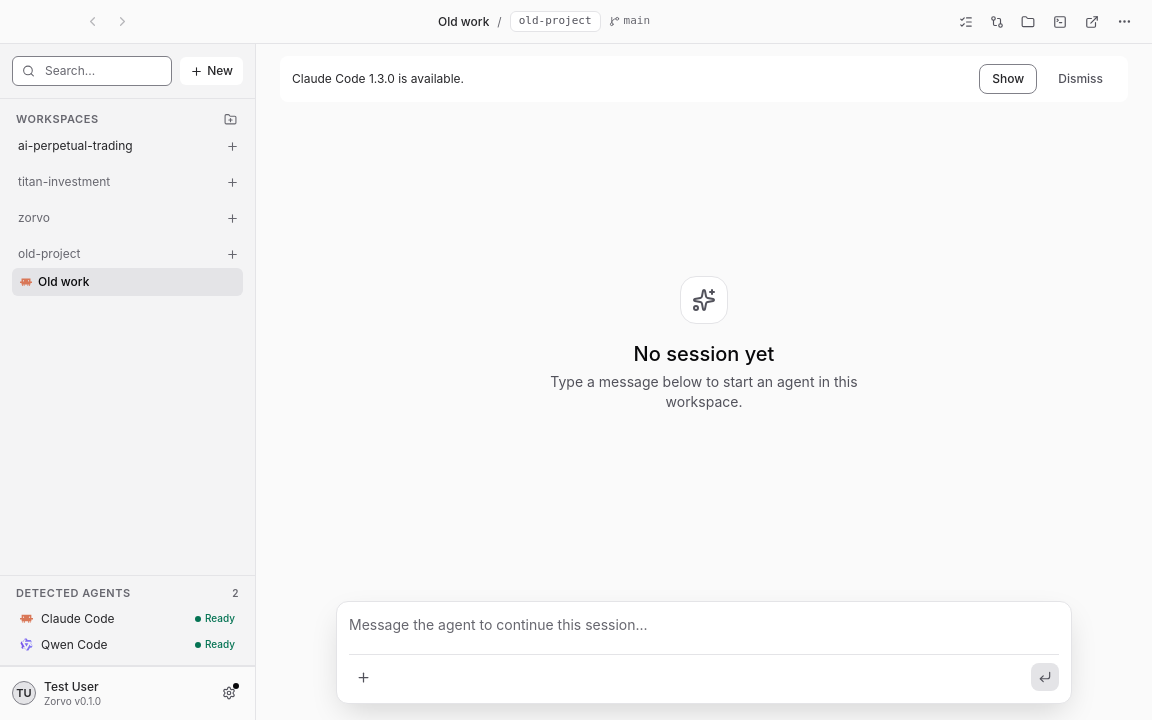
it: Window chrome wiring › keeps Files for a session whose folder has left the recents
Click the button named "Toggle files panel". click: (1028, 22)
box: [1014, 8, 1042, 36]
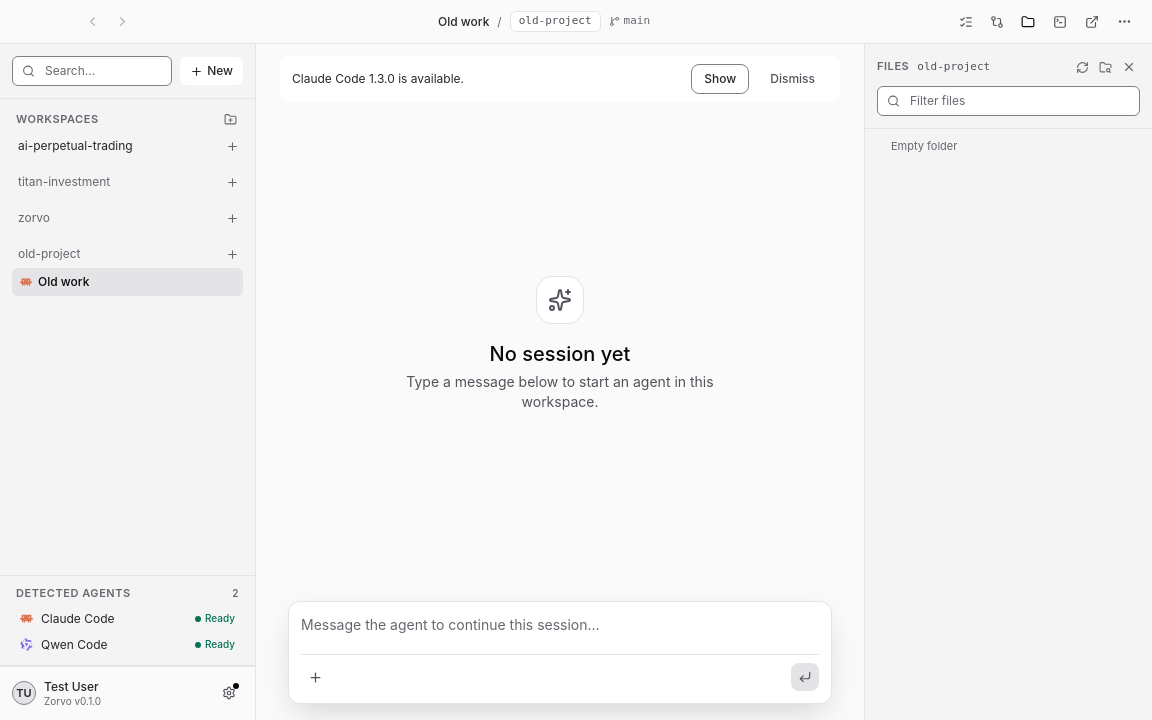
Now the element named "Files panel" shows "old-project", box [917, 60, 990, 73]
